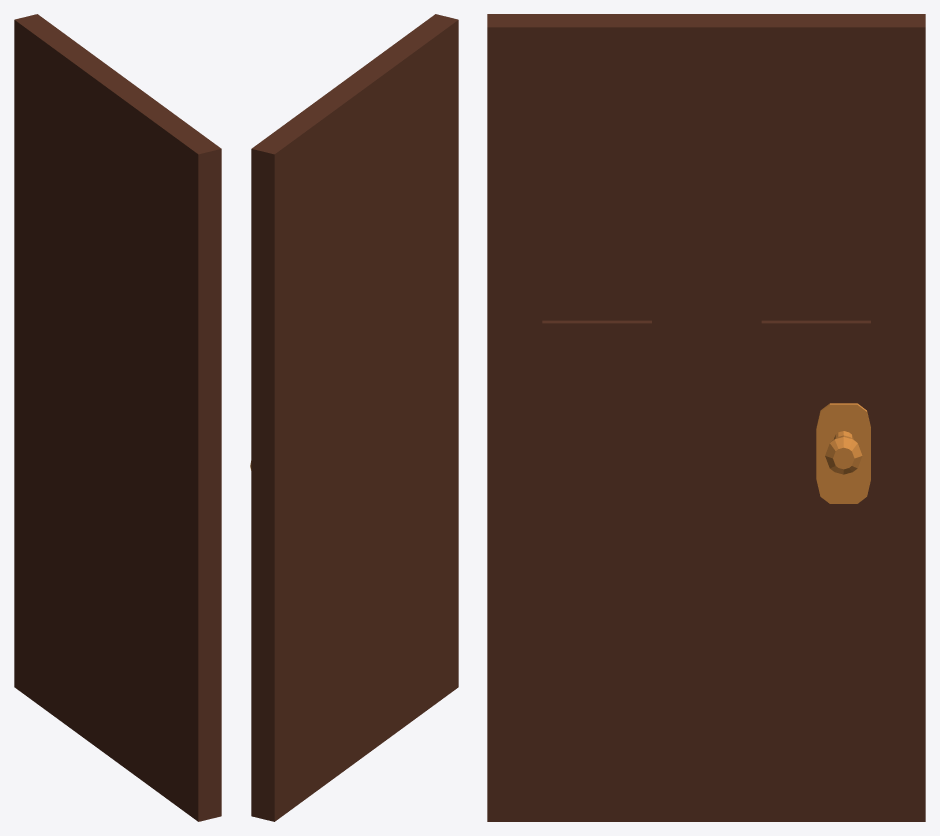
File: Door.glb
3 renders of one model, left to right at view 1: azimuth 30°, elevation 25°; view 2: azimuth 150°, elevation 25°; view 3: azimuth 270°, elevation 25°, orthographic. The views are drawn at different scales.
Parts seen in each view (by area): view 1: Door; view 2: Door; view 3: Door, Doorhandle.
Part boxes in pixels (x1,y1,x2,y2): Door: [14, 14, 221, 821]; Door: [251, 14, 458, 821]; Door: [487, 14, 925, 821]; Doorhandle: [816, 403, 870, 503].
Size of the model in its own units: 0.1873 by 2.2 by 1.1.
